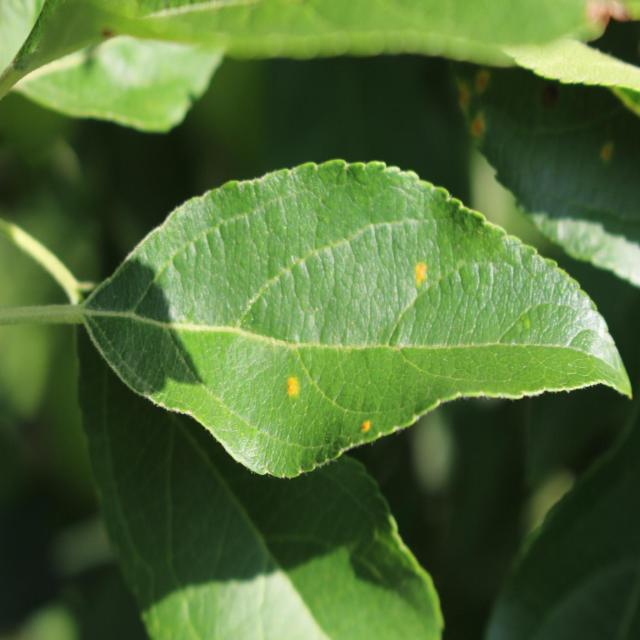Rust: (286, 372, 306, 405), (414, 257, 431, 286), (358, 418, 374, 436)
